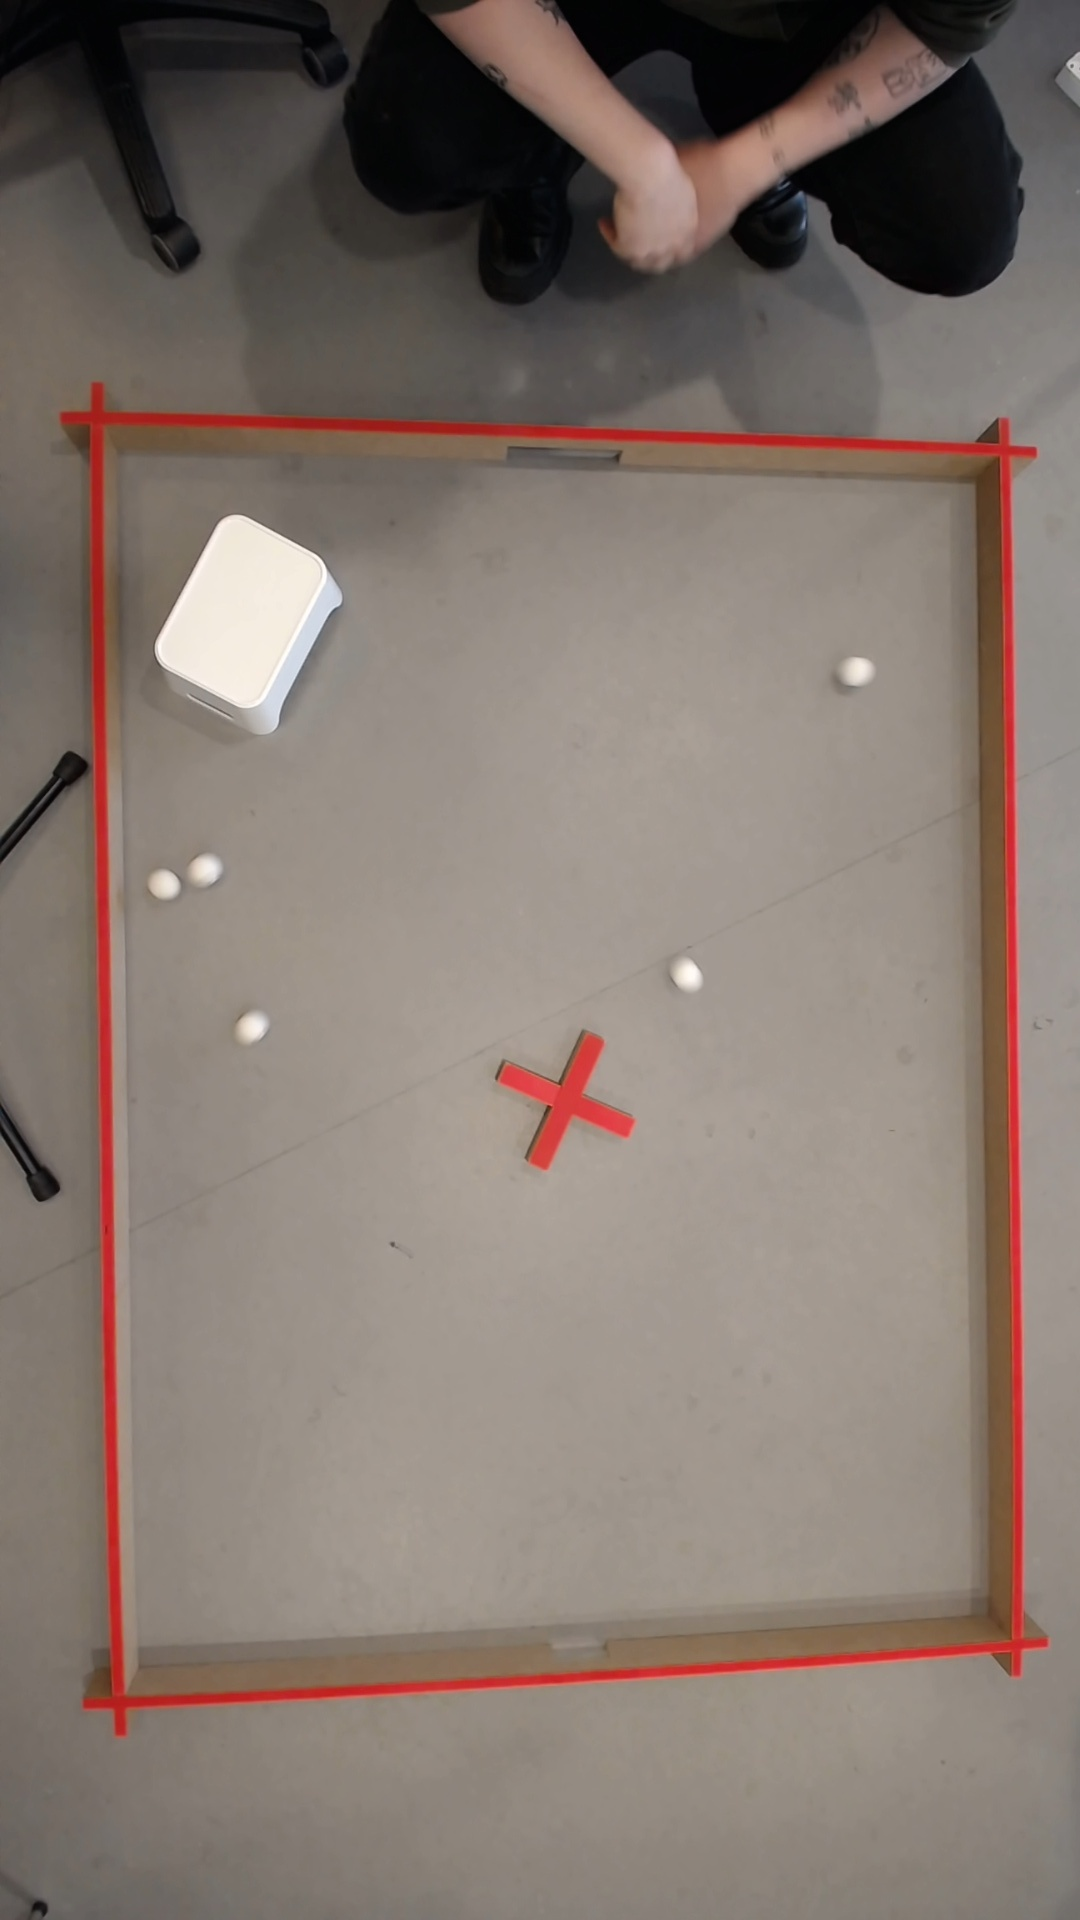balls: (144, 505, 356, 729), (633, 141, 698, 223), (670, 956, 707, 993), (189, 852, 223, 885), (847, 658, 872, 684), (153, 872, 178, 897)
car: (236, 1010, 269, 1043)
